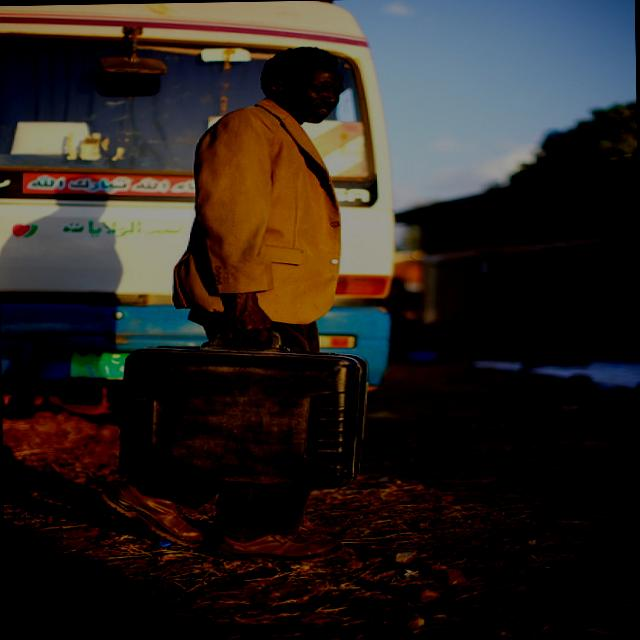Vehicle: (0, 0, 402, 413)
